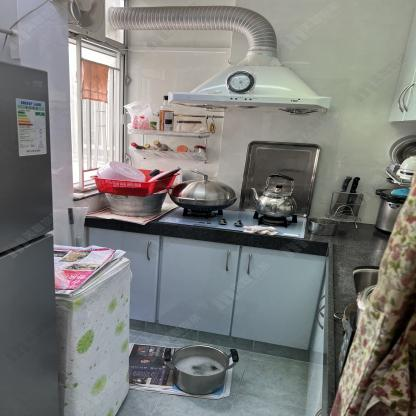Cupboard: (84, 226, 327, 416), (387, 2, 416, 120)
Exhaust Fan: (68, 0, 109, 38)
Exhaust Hood: (168, 64, 331, 117)
Fridge: (0, 61, 63, 416)
Sink: (354, 267, 381, 296)
Stove: (157, 204, 305, 238)
